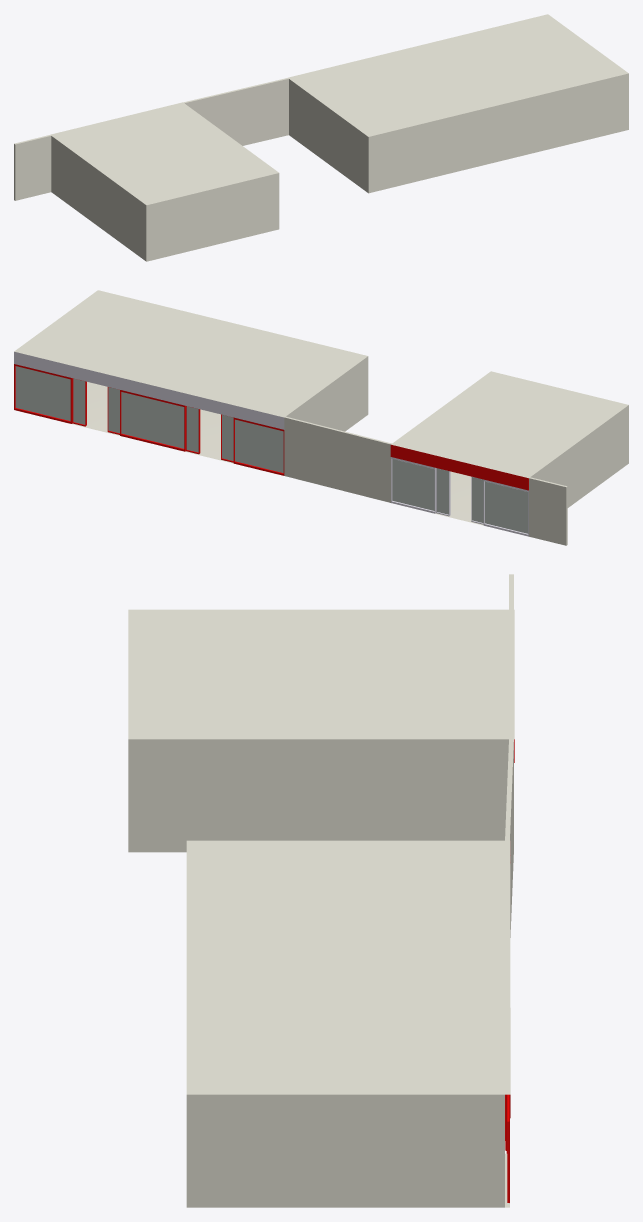
Rendered from shop 6.FBX.
3 renders of one model, top to bottom at view 1: azimuth 30°, elevation 25°; view 2: azimuth 150°, elevation 25°; view 3: azimuth 270°, elevation 25°, orthographic. The views are drawn at different scales.
Parts seen in each view (by area): view 1: shop 6; view 2: shop 6; view 3: shop 6.
Boxes of the visible parts, box(x1,y1,x2,y2) form: shop 6: box(14, 14, 628, 261); shop 6: box(14, 290, 628, 545); shop 6: box(128, 574, 514, 1207).
Size of the model in its own units: 1652 by 167 by 518.
Materials: 1 (1 with a texture image).
